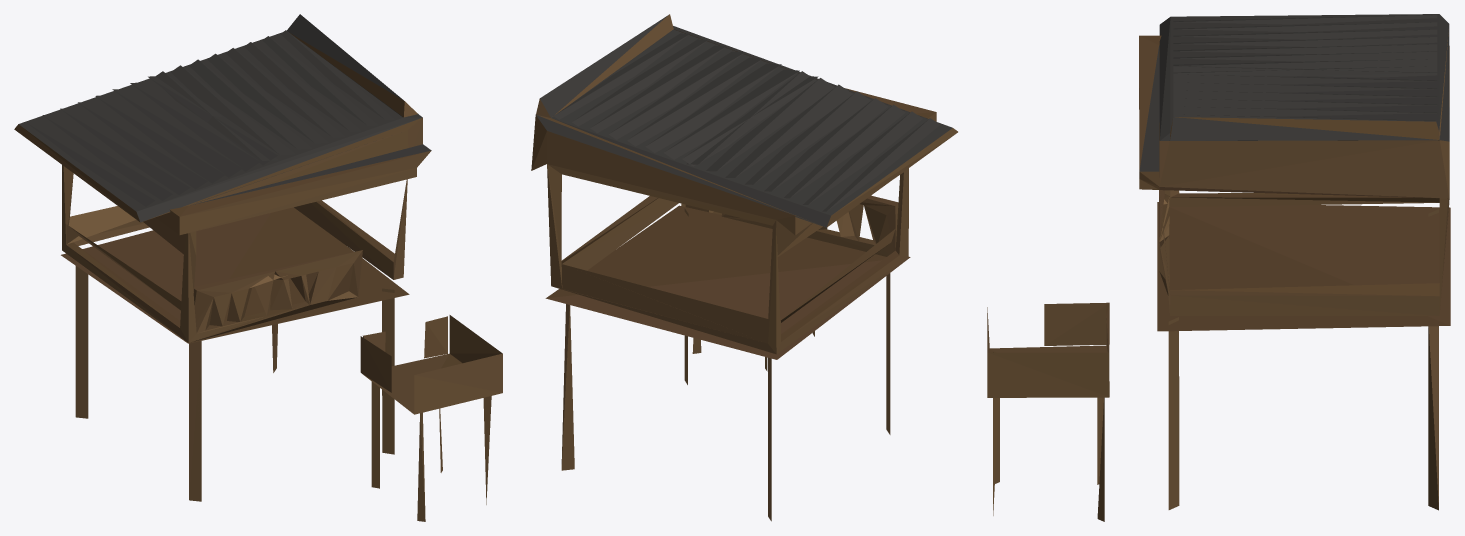
Rendered from lookout.paint-v1.lod2.glb.
The picture shows the model from 3 angles, left to right: view 1: azimuth 30°, elevation 25°; view 2: azimuth 150°, elevation 25°; view 3: azimuth 270°, elevation 25°; orthographic projection. The views are drawn at different scales.
Visible parts, largest first — view 1: Cube__0; view 2: Cube__0; view 3: Cube__0.
Part boxes in pixels (x1,y1,x2,y2): Cube__0: [14, 14, 502, 521]; Cube__0: [531, 14, 957, 521]; Cube__0: [987, 14, 1450, 521].
Size of the model in its own units: 6.01 by 6.99 by 7.32.
